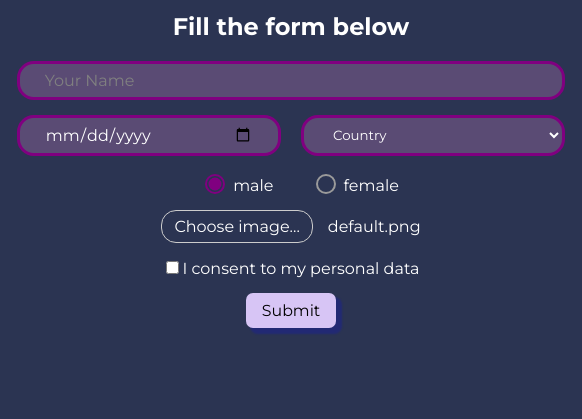
ProductForm › Name input › should show error message in name input
In the field with placeholder "Your Name": (291, 80) [17,61,565,100], type "van"
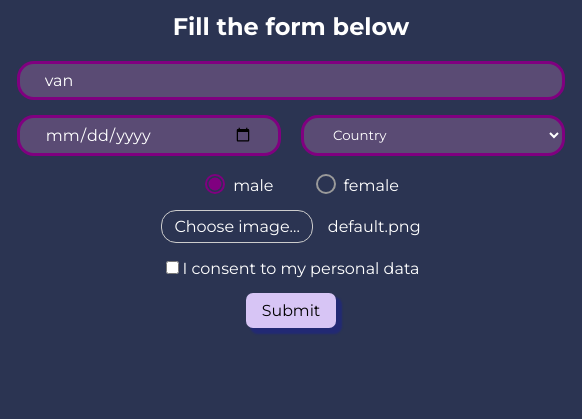
Click the button "Submit": (291, 310) [246,293,336,328]
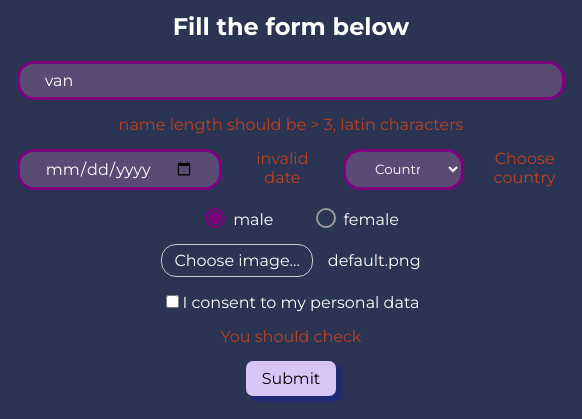
Expected: the text "name length should be > 3, latin characters" is shown, [119,115,463,134]
